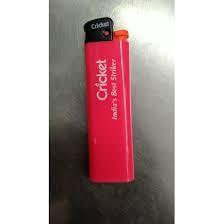lighter: (84, 15, 135, 184)
